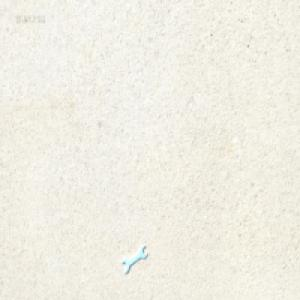Wrench: (122, 244, 146, 273)
